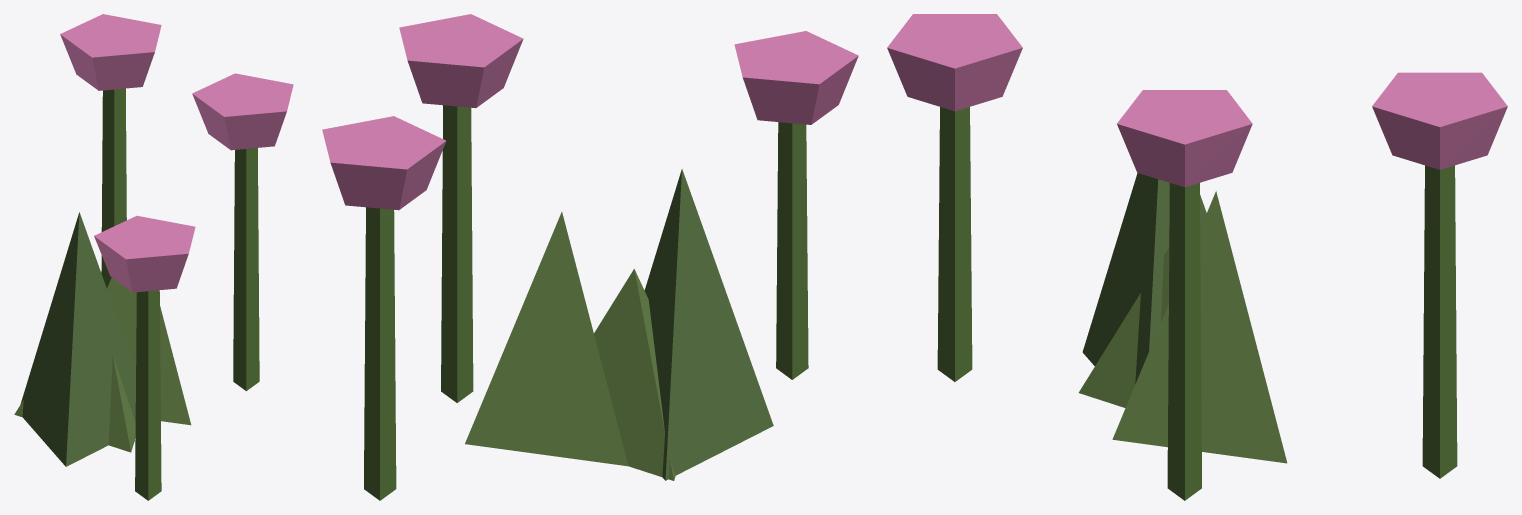
Rendered from astragalus_2.obj.
3 views of the same model, side by side, from view 1: azimuth 30°, elevation 25°; view 2: azimuth 150°, elevation 25°; view 3: azimuth 270°, elevation 25° (orthographic). The views are drawn at different scales.
Parts seen in each view (by area): view 1: astragalus_2; view 2: astragalus_2; view 3: astragalus_2.
Part boxes in pixels (x1=…): astragalus_2: x1=14, y1=14, x2=293, y2=500; astragalus_2: x1=322, y1=14, x2=858, y2=500; astragalus_2: x1=887, y1=14, x2=1507, y2=500.
Size of the model in its own units: 0.287 by 0.2918 by 0.4343.
